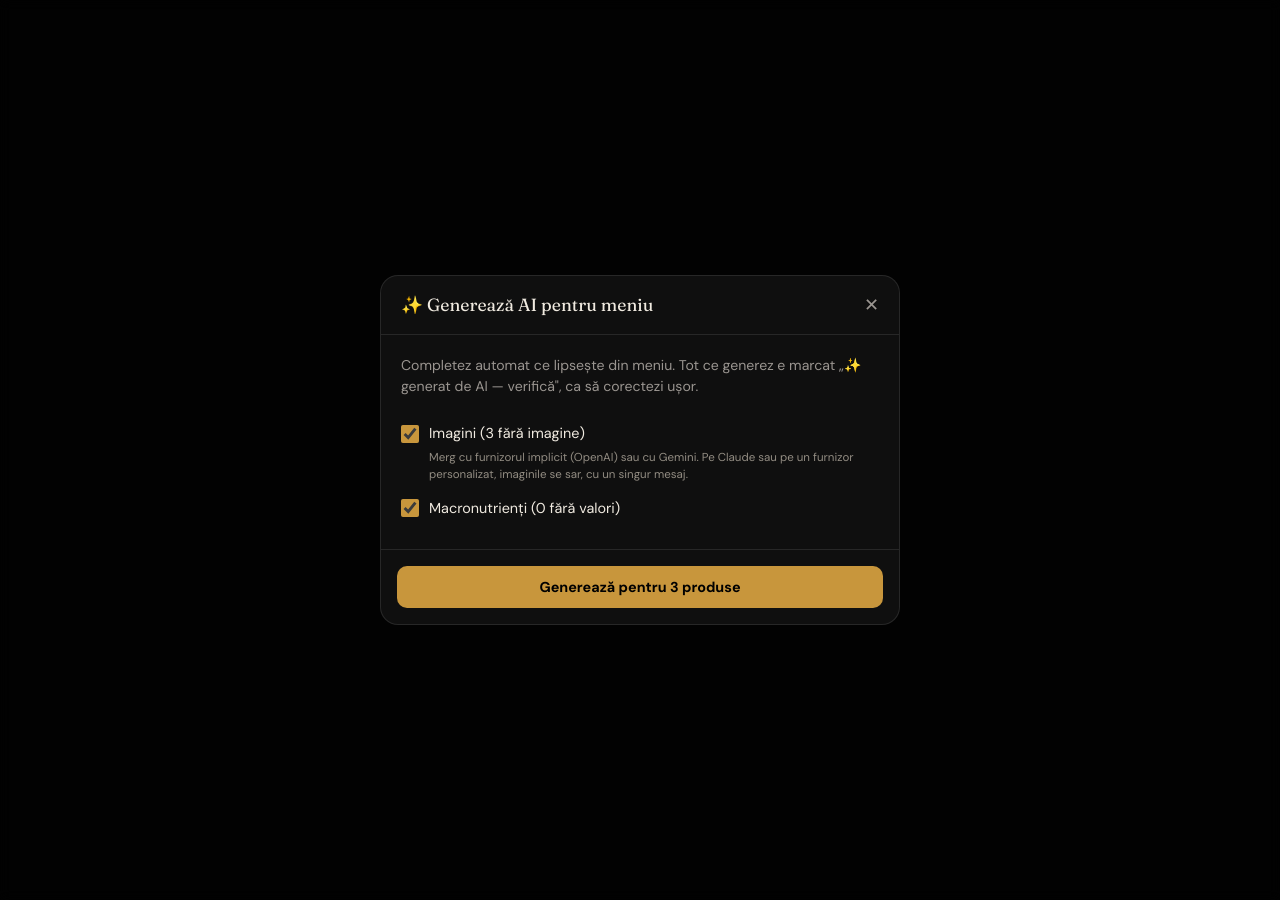
Test case: AiBulkGenerate — erori de configurare › ABG2 (control): eșecul unui singur produs nu oprește lotul
The width and height of the screenshot is (1280, 900).
Click the button "Generează pentru 3 produse". click: (640, 587)
box: top-left (397, 566), bottom-right (883, 608)
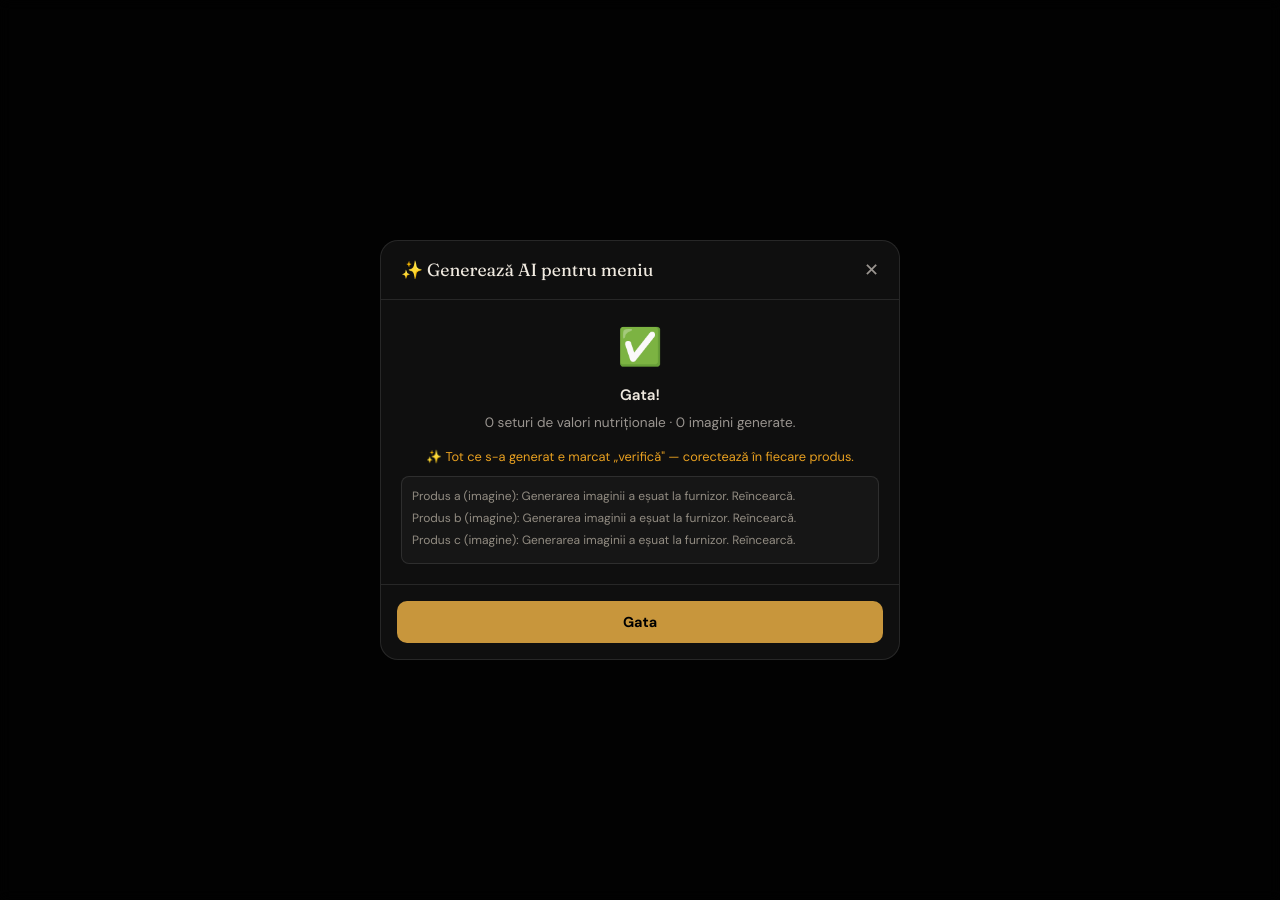
Expected: the text "Gata!" is shown, top-left (620, 385), bottom-right (660, 405)
Expected: the text "(imagine):" is shown 3 times, top-left (412, 488), bottom-right (795, 504); top-left (412, 510), bottom-right (796, 526); top-left (412, 532), bottom-right (796, 548)
